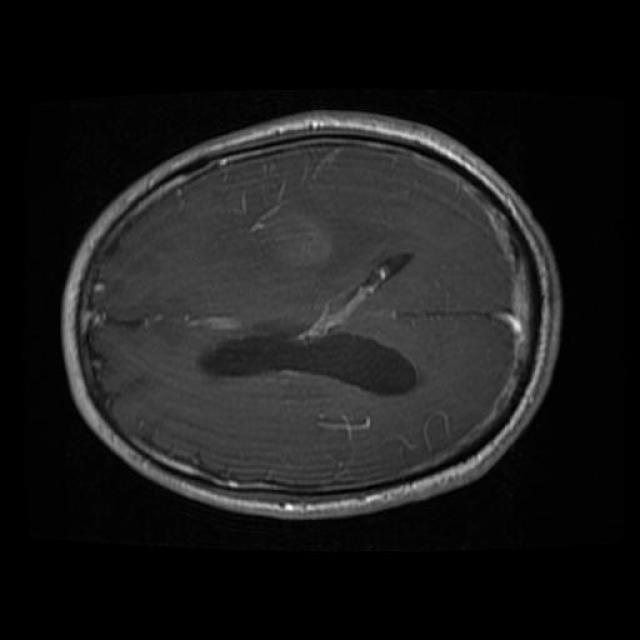Glioma: (247, 181, 331, 267)
